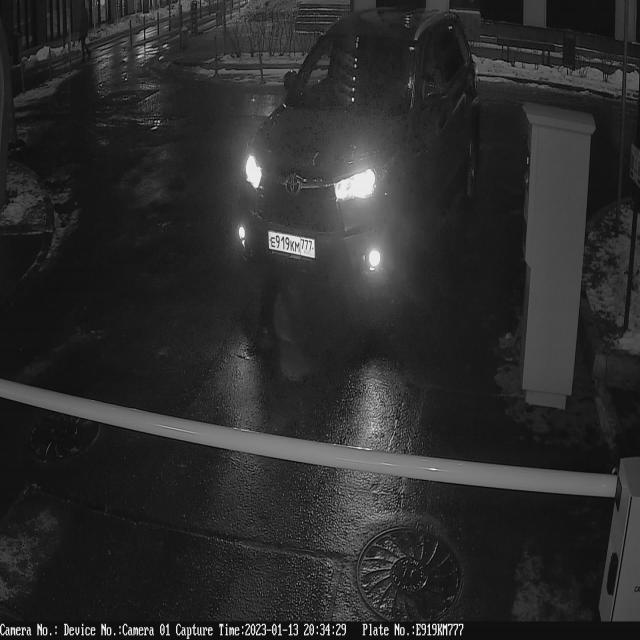car-plate-numbers: (267, 226, 319, 267)
